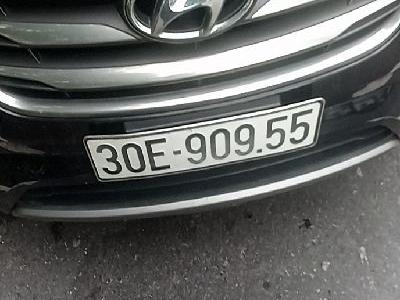car: (84, 96, 324, 184)
